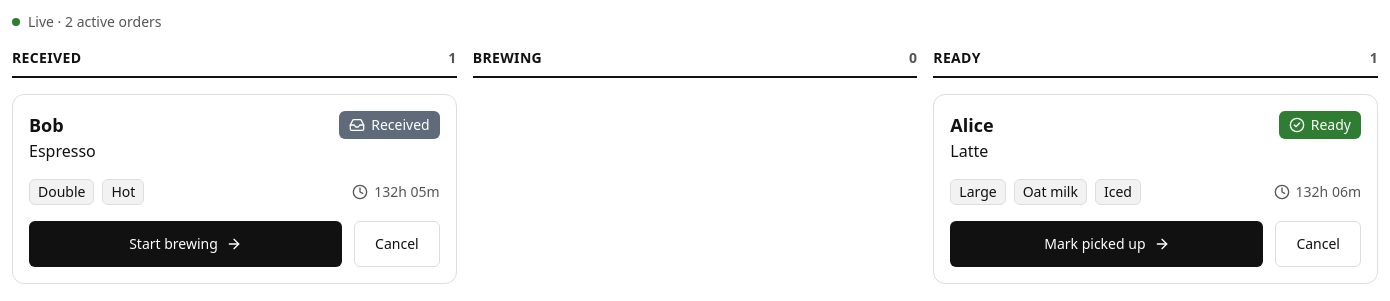
Test: BaristaQueue › updates the badge when an order advances
What coordinates should you click on to do the following:
click the button "Start brewing"
I would click on:
 (186, 244)
Its box is [29,221,342,267].
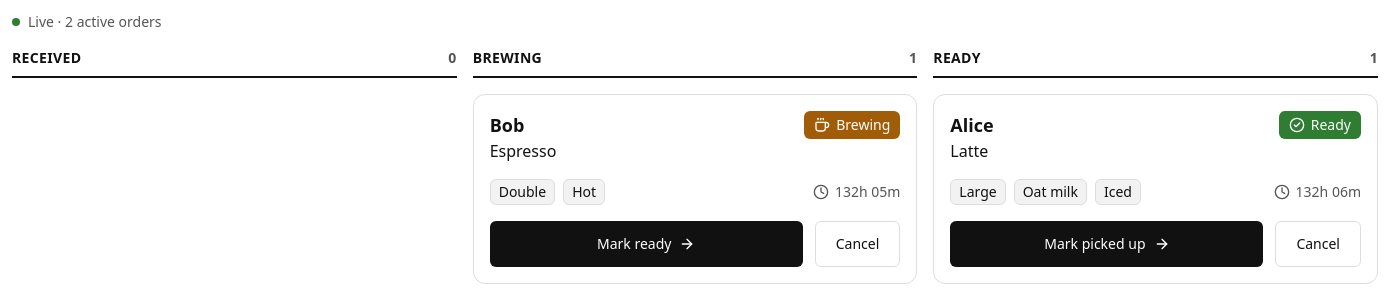
Result: the element with test id "queue-status-badge" reads "Brewing" at [836,115,890,134]
Result: the button "Mark ready" is shown at [490,221,803,267]
